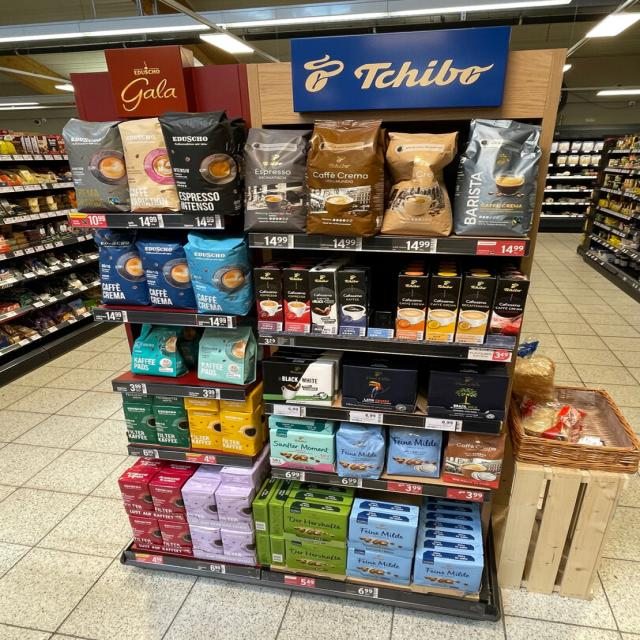BM Gemahlen: (426, 370, 511, 422)
BW Gemahlen: (262, 361, 333, 407)
Barista CC: (452, 116, 551, 240)
CC Mild: (375, 129, 463, 236)
CC Vollmundig: (438, 431, 508, 490)
CC Vollmundig 36 Pads: (304, 118, 386, 239)
Empty Shelf: (416, 525, 486, 565), (367, 273, 398, 337)
Espresso Aromatisch: (241, 127, 313, 238)
FM 36 Pads: (384, 427, 446, 480)
FM Bohne: (332, 424, 389, 482)
FM Gemahlen: (348, 516, 419, 559), (413, 557, 484, 598), (346, 548, 413, 588)
Herzhatfe Mundig: (283, 506, 348, 549), (286, 540, 348, 575)
LG Gemahlen: (340, 365, 419, 414)
SM Gemahlen: (269, 429, 334, 474)
Simo CC Colombia: (485, 278, 531, 347)
Simo CCMild bigpack: (425, 275, 462, 343)
Simo CCVollmundig bigpack: (396, 275, 428, 340)
Simo Decaff: (453, 277, 497, 345)
Simo Es Brazil: (283, 269, 310, 333)
Simo Es Caramel: (254, 268, 283, 331)
Simo Es Elegant: (310, 271, 337, 335)
Simo Es Kraft: (338, 271, 367, 336)
